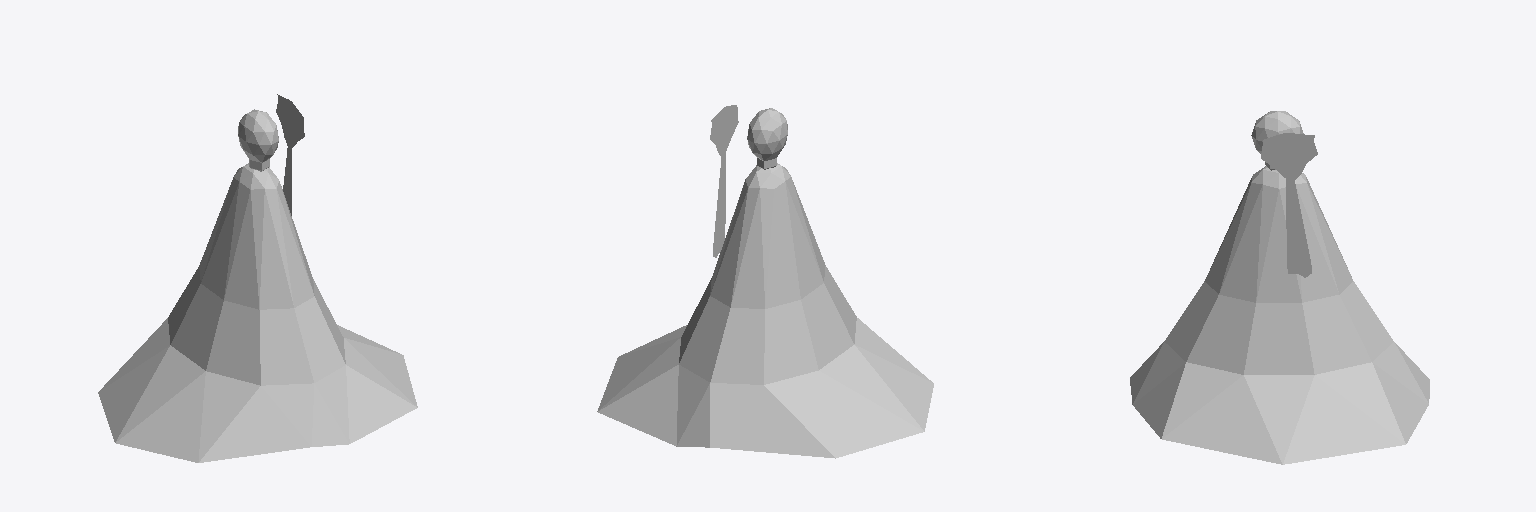
Rendered from GuestA.obj.
The picture shows the model from 3 angles: view 1: azimuth 30°, elevation 25°; view 2: azimuth 150°, elevation 25°; view 3: azimuth 270°, elevation 25°; orthographic projection.
Visible parts, largest first — view 1: Icosphere, vamp_wolf_vamp_wolf.001; view 2: Icosphere, vamp_wolf_vamp_wolf.001; view 3: Icosphere, vamp_wolf_vamp_wolf.001.
Boxes of the visible parts, <box> form: Icosphere: <box>98,109,417,462</box>; vamp_wolf_vamp_wolf.001: <box>276,94,304,215</box>; Icosphere: <box>597,108,933,458</box>; vamp_wolf_vamp_wolf.001: <box>710,105,738,257</box>; Icosphere: <box>1130,111,1429,464</box>; vamp_wolf_vamp_wolf.001: <box>1261,133,1317,277</box>.
Bounding box in the file's own units: 1.75 × 1.63 × 1.53.